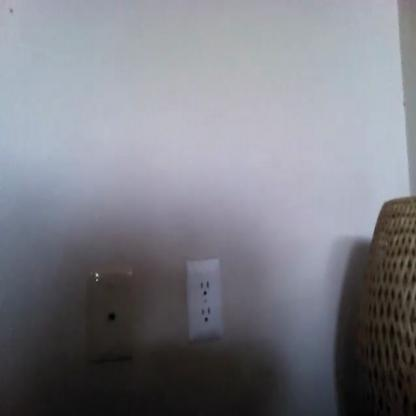OUTLET: (187, 259, 221, 341)
